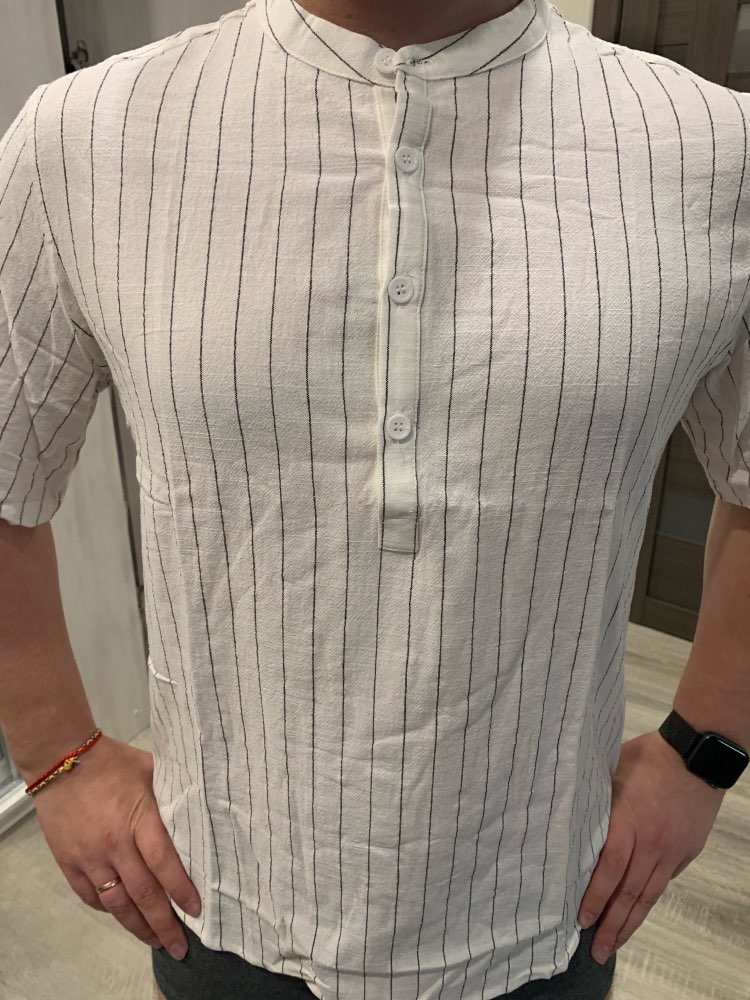shirts: (16, 4, 750, 983)
